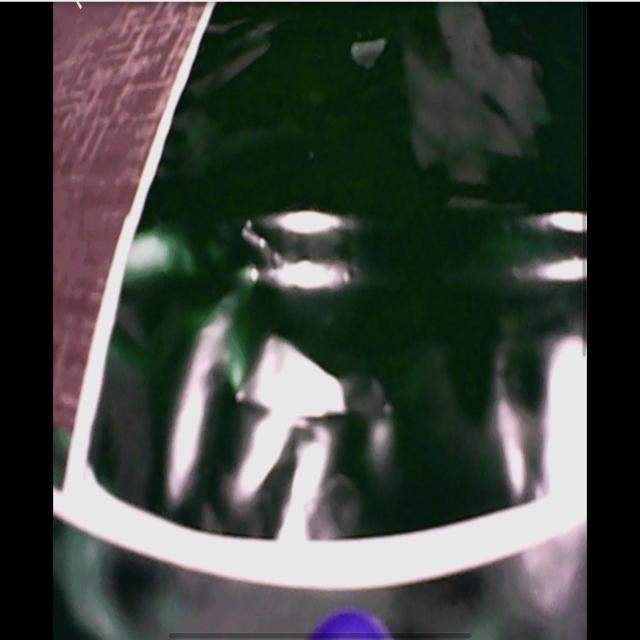ball: (310, 611, 397, 640)
